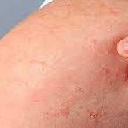Hives: (76, 66, 128, 120)
